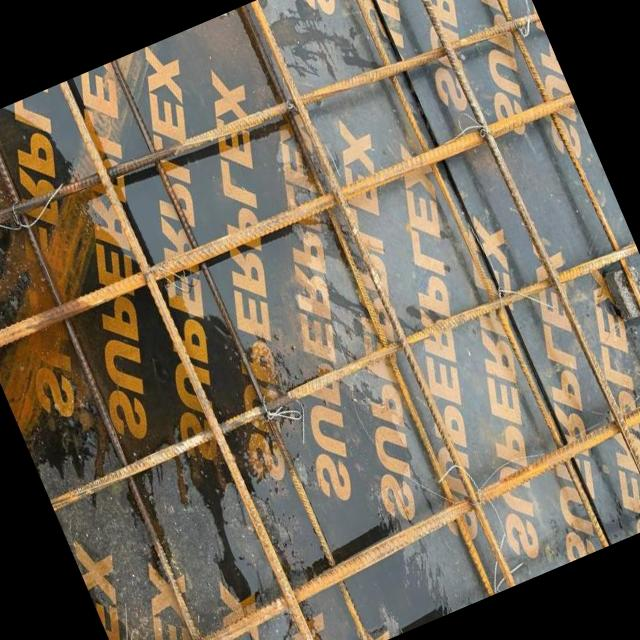ribbed bar: (44, 237, 640, 513), (249, 0, 515, 592), (0, 87, 576, 355), (109, 57, 372, 640), (237, 5, 495, 597), (338, 0, 610, 554), (60, 78, 324, 640), (0, 0, 541, 271), (103, 377, 640, 640), (394, 0, 640, 530), (0, 116, 234, 640), (456, 0, 640, 499)
